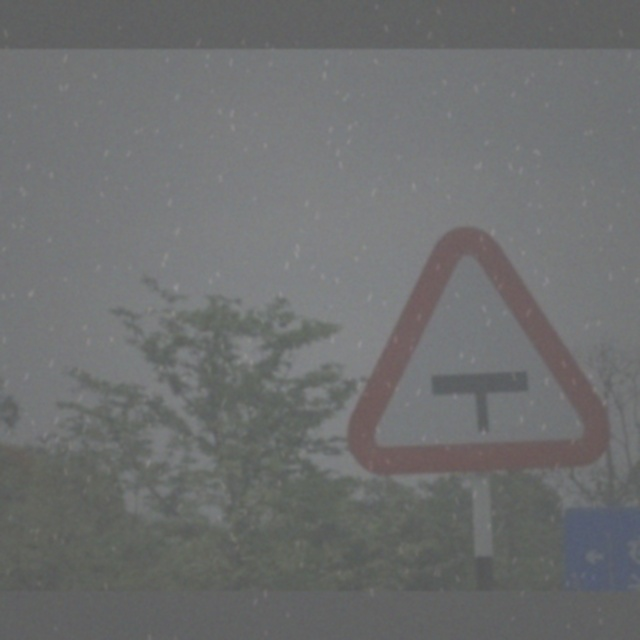T_Intersection: (334, 217, 618, 483)
